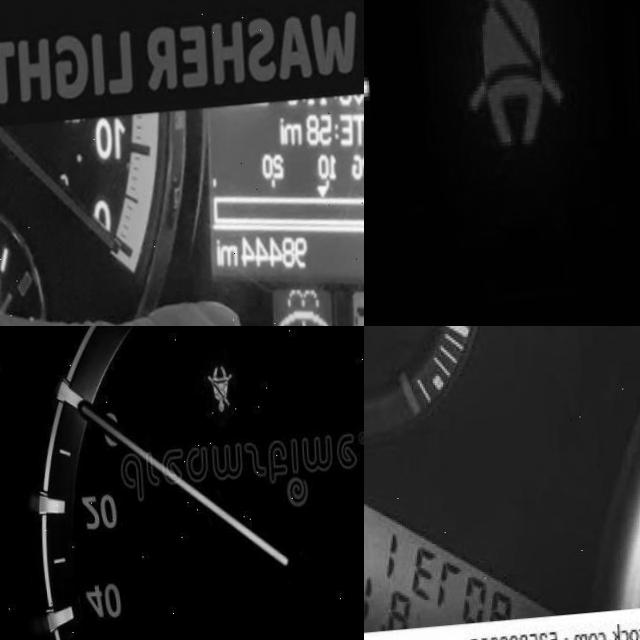Seat Belt: (457, 0, 557, 153), (204, 368, 232, 420)
